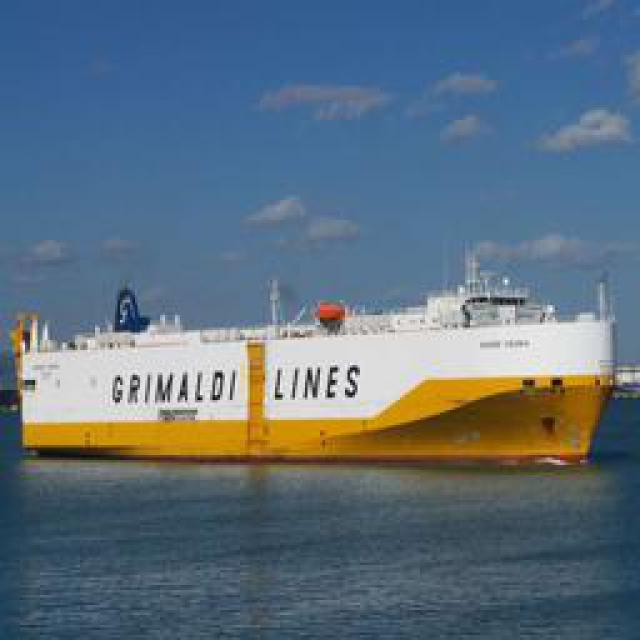Ship: (19, 263, 624, 468)
